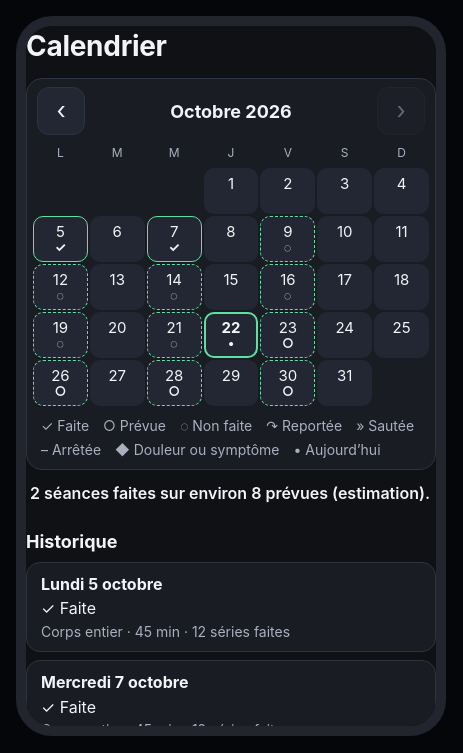
écran Calendrier avec séances prévues › affiche prévue (○) et non faite (◌) avec un texte, et explique sans reproche
The image size is (463, 753).
Expected: the button "26 ○" is shown, [33,360,88,406]
Click the button "9 ◌" at x=288, y=239, box [260,216,315,262]
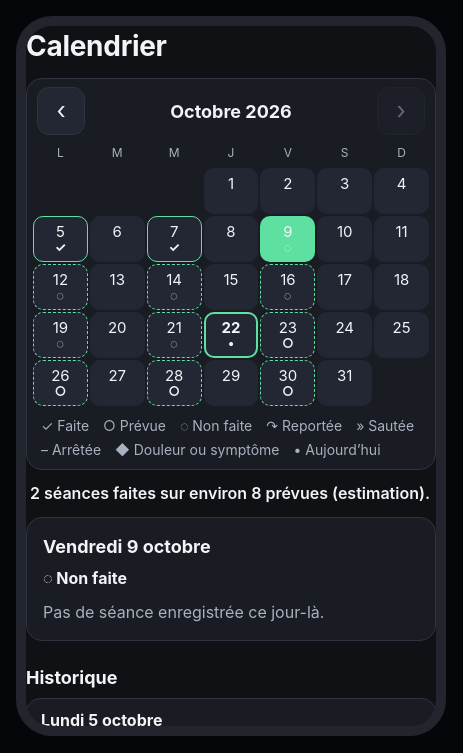
Expected: the text "Pas de séance enregistrée ce jour-là." is shown, [43,602,324,622]
